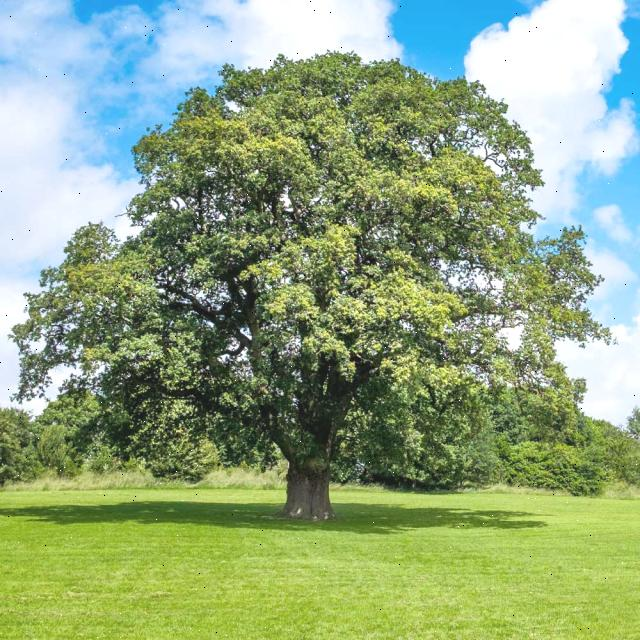Tree: (17, 35, 601, 525)
